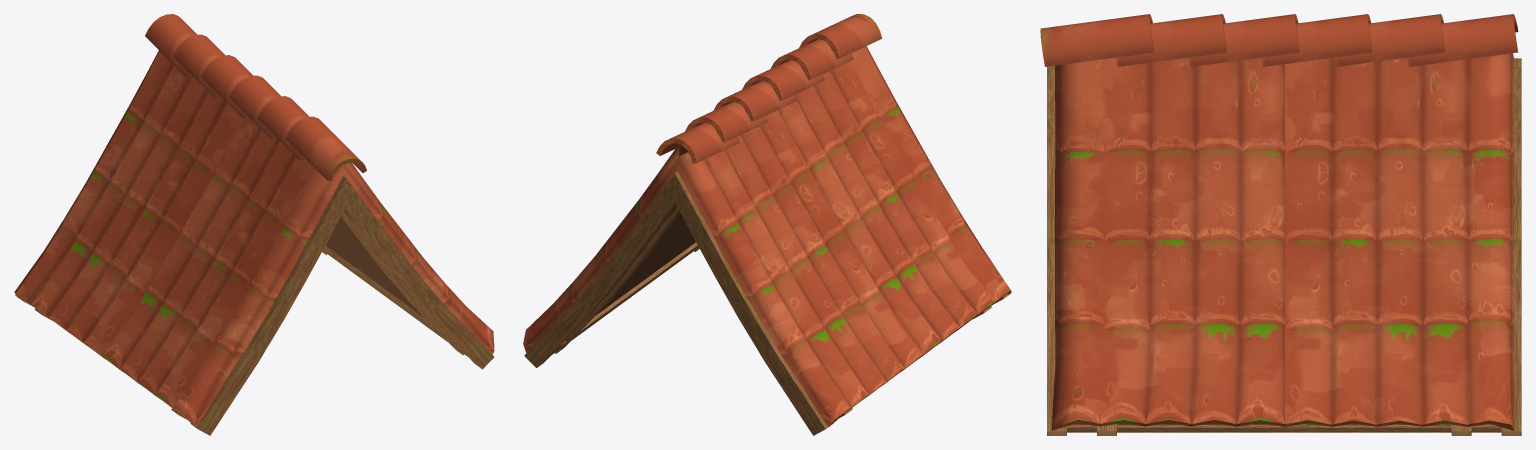
The model's file is Roof_RoundTiles_4x4.gltf.
3 views of the same model, side by side, from view 1: azimuth 30°, elevation 25°; view 2: azimuth 150°, elevation 25°; view 3: azimuth 270°, elevation 25° (orthographic). The views are drawn at different scales.
Parts seen in each view (by area): view 1: Roof_RoundTiles_4x4; view 2: Roof_RoundTiles_4x4; view 3: Roof_RoundTiles_4x4.
Part boxes in pixels (bbox=[...]): Roof_RoundTiles_4x4: bbox=[14, 14, 494, 435]; Roof_RoundTiles_4x4: bbox=[523, 14, 1011, 435]; Roof_RoundTiles_4x4: bbox=[1040, 14, 1521, 435].
Bounding box in the file's own units: 5.51 × 4.25 × 5.56.
2 materials, 2 textured.
